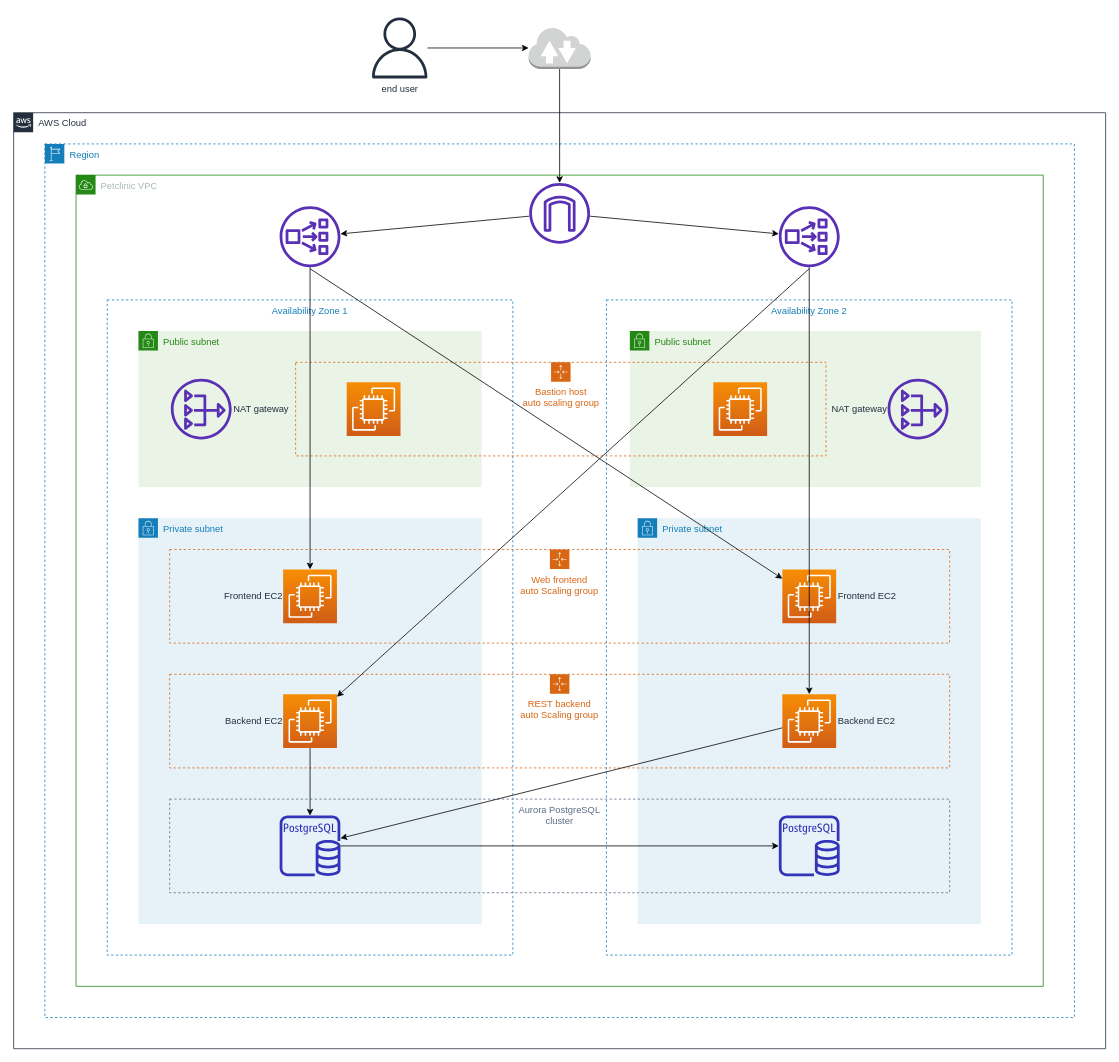
Some shapes in this 1119 by 1062 pixel diagram are drawn without their labels. The centre of each missing label's shape, as x and y in pixels:
Aurora PostgreSQL reader: pixel 808 845
Aurora PostgreSQL writer: pixel 309 845
Backend network load balancer: pixel 808 236
Frontend network load balancer: pixel 309 236
internet: pixel 559 47
Internet gateway: pixel 559 213
